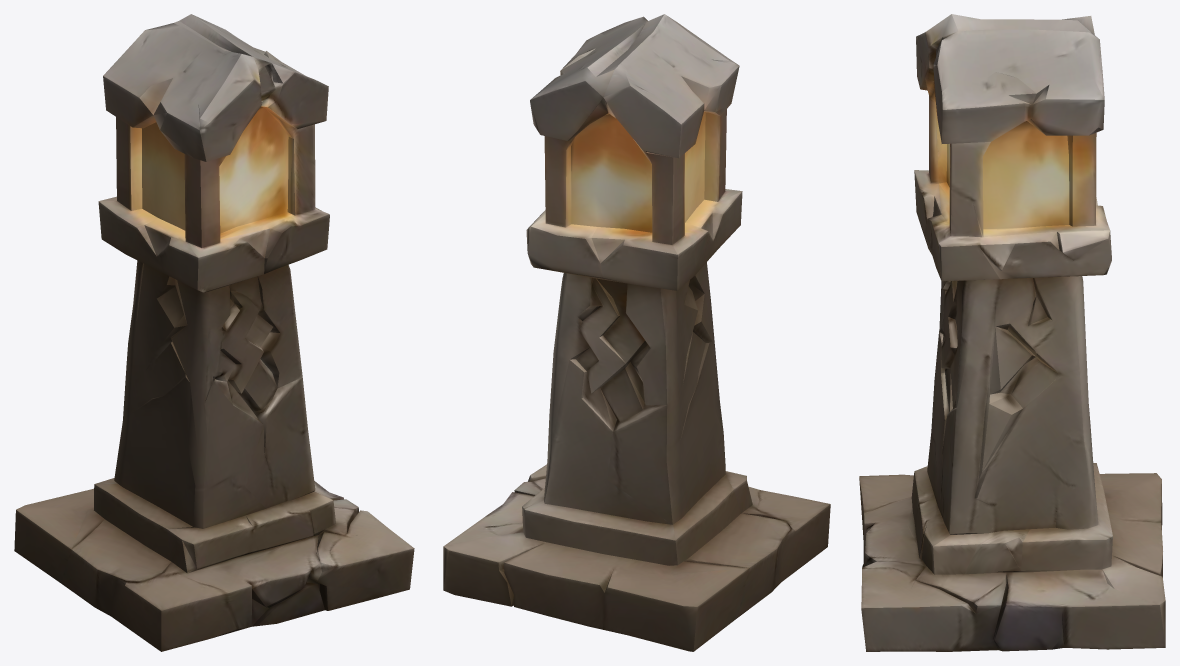
The model's file is m2CountdownBeacon.glb.
The picture shows the model from 3 angles, left to right: view 1: azimuth 30°, elevation 25°; view 2: azimuth 150°, elevation 25°; view 3: azimuth 270°, elevation 25°; orthographic projection. The views are drawn at different scales.
Visible parts, largest first — view 1: model; view 2: model; view 3: model.
Boxes of the visible parts, x1,y1,x2,y2 form: model: [14, 14, 414, 651]; model: [443, 14, 830, 651]; model: [859, 14, 1165, 651].
Size of the model in its own units: 0.9598 by 1.9 by 0.9218.
Materials: 1 (1 with a texture image).
